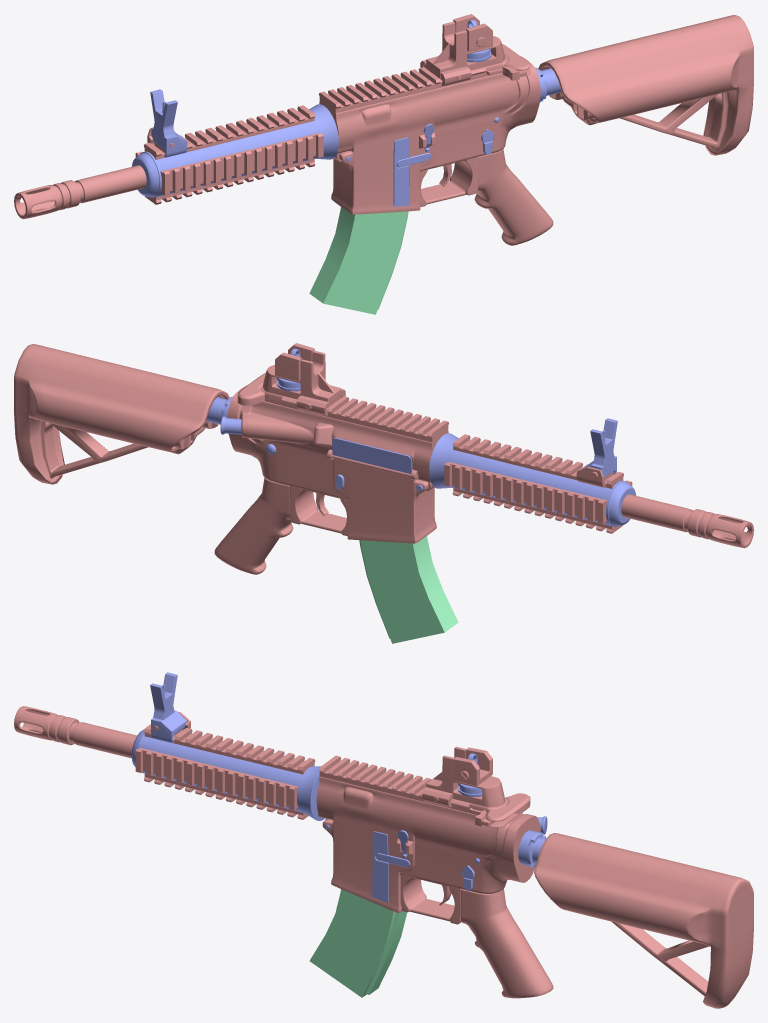
The picture shows the model from 3 angles, top to bottom: view 1: azimuth 30°, elevation 25°; view 2: azimuth 150°, elevation 25°; view 3: azimuth 330°, elevation 25°; orthographic projection.
Visible parts, largest first — view 1: m4a1_gun, m4a1_mag; view 2: m4a1_gun, m4a1_mag; view 3: m4a1_gun, m4a1_mag.
Boxes of the visible parts, x1,y1,x2,y2 form: m4a1_gun: (14,14,753,245); m4a1_mag: (309,207,408,314); m4a1_gun: (14,343,753,574); m4a1_mag: (359,536,458,643); m4a1_gun: (14,672,753,1008); m4a1_mag: (309,889,407,997).
Size of the model in its own units: 22.11 by 7.75 by 2.52.
